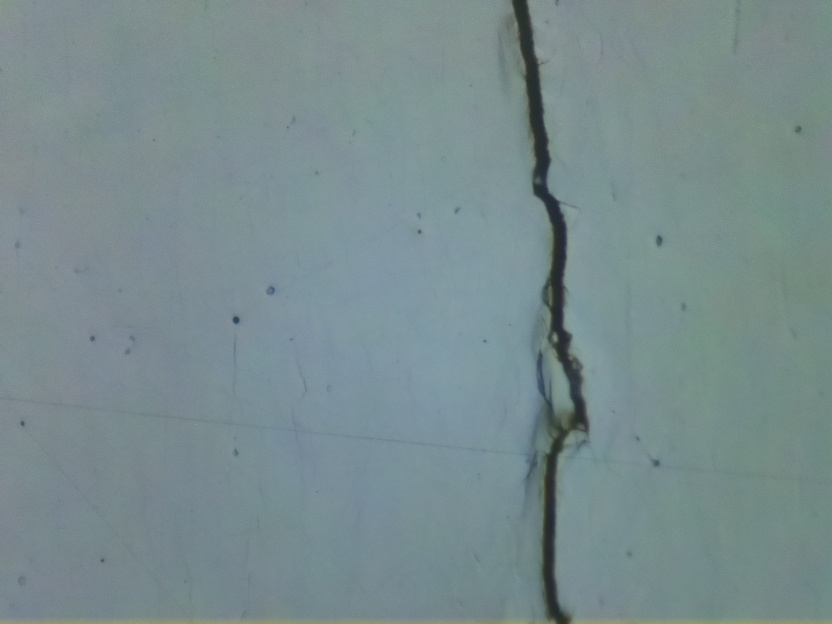crack: (515, 0, 593, 624)
